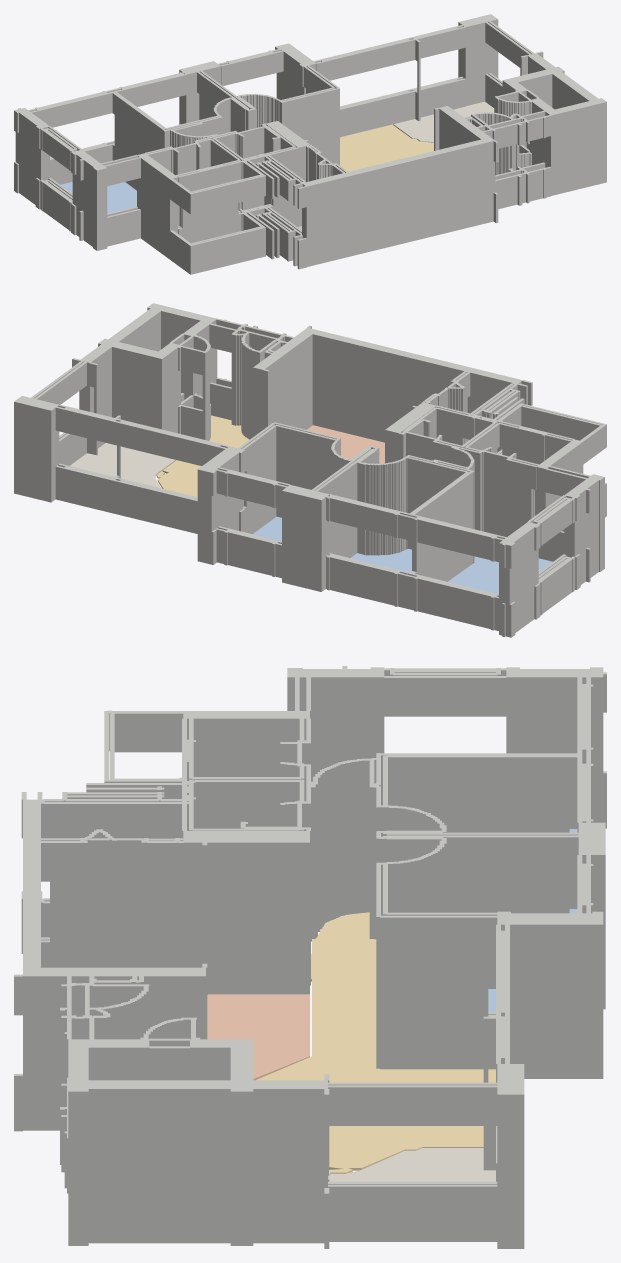
The picture shows the model from 3 angles, top to bottom: view 1: azimuth 30°, elevation 25°; view 2: azimuth 150°, elevation 25°; view 3: azimuth 270°, elevation 25°; orthographic projection. The views are drawn at different scales.
Parts seen in each view (by area): view 1: walls, room:living:10, room:other:2, room:bedroom:1; view 2: walls, room:other:2, room:living:10, room:bedroom:1, room:kitchen:8, room:bedroom:0; view 3: walls, room:living:10, room:kitchen:8, room:other:2.
Boxes of the visible parts, bbox=[...] form: walls: bbox=[14, 14, 606, 274]; room:living:10: bbox=[340, 124, 433, 171]; room:other:2: bbox=[393, 101, 494, 142]; room:bedroom:1: bbox=[60, 182, 136, 213]; walls: bbox=[14, 303, 606, 637]; room:other:2: bbox=[70, 443, 176, 488]; room:living:10: bbox=[156, 415, 249, 496]; room:bedroom:1: bbox=[448, 556, 552, 594]; room:kitchen:8: bbox=[307, 425, 384, 463]; room:bedroom:0: bbox=[350, 548, 411, 572]; walls: bbox=[14, 666, 606, 1248]; room:living:10: bbox=[256, 912, 495, 1173]; room:kitchen:8: bbox=[207, 994, 309, 1080]; room:other:2: bbox=[329, 1148, 495, 1181].
Size of the model in its own units: 16.67 by 2.8 by 9.75.
